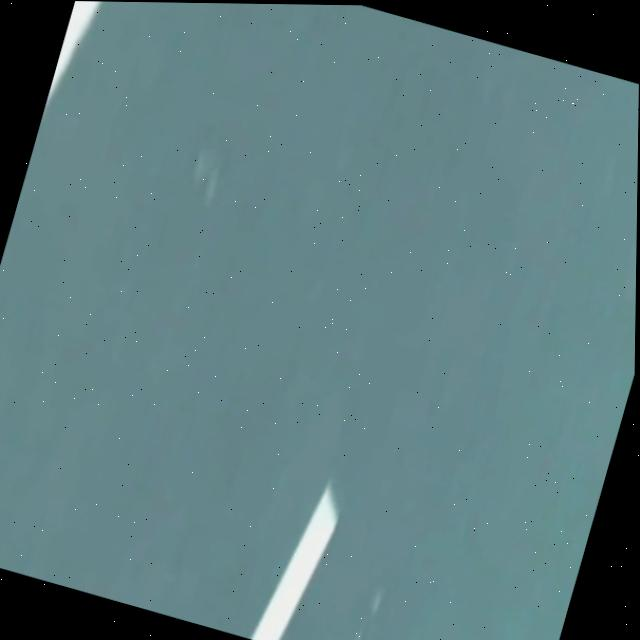center: (251, 485, 338, 640)
right: (45, 1, 101, 103)
